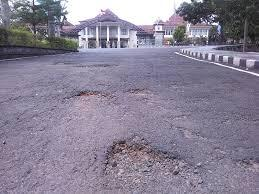Pothole: (101, 134, 195, 188), (42, 52, 129, 72), (220, 141, 259, 184), (65, 85, 115, 106), (120, 77, 155, 103)
